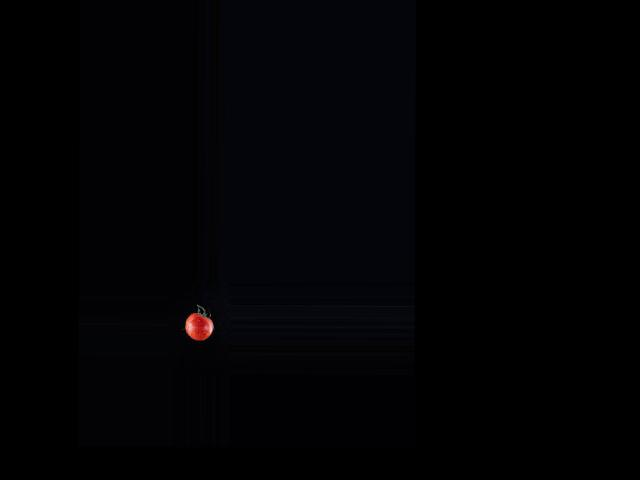tomato: (184, 312, 213, 340)
